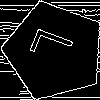L: (29, 26, 84, 68)
